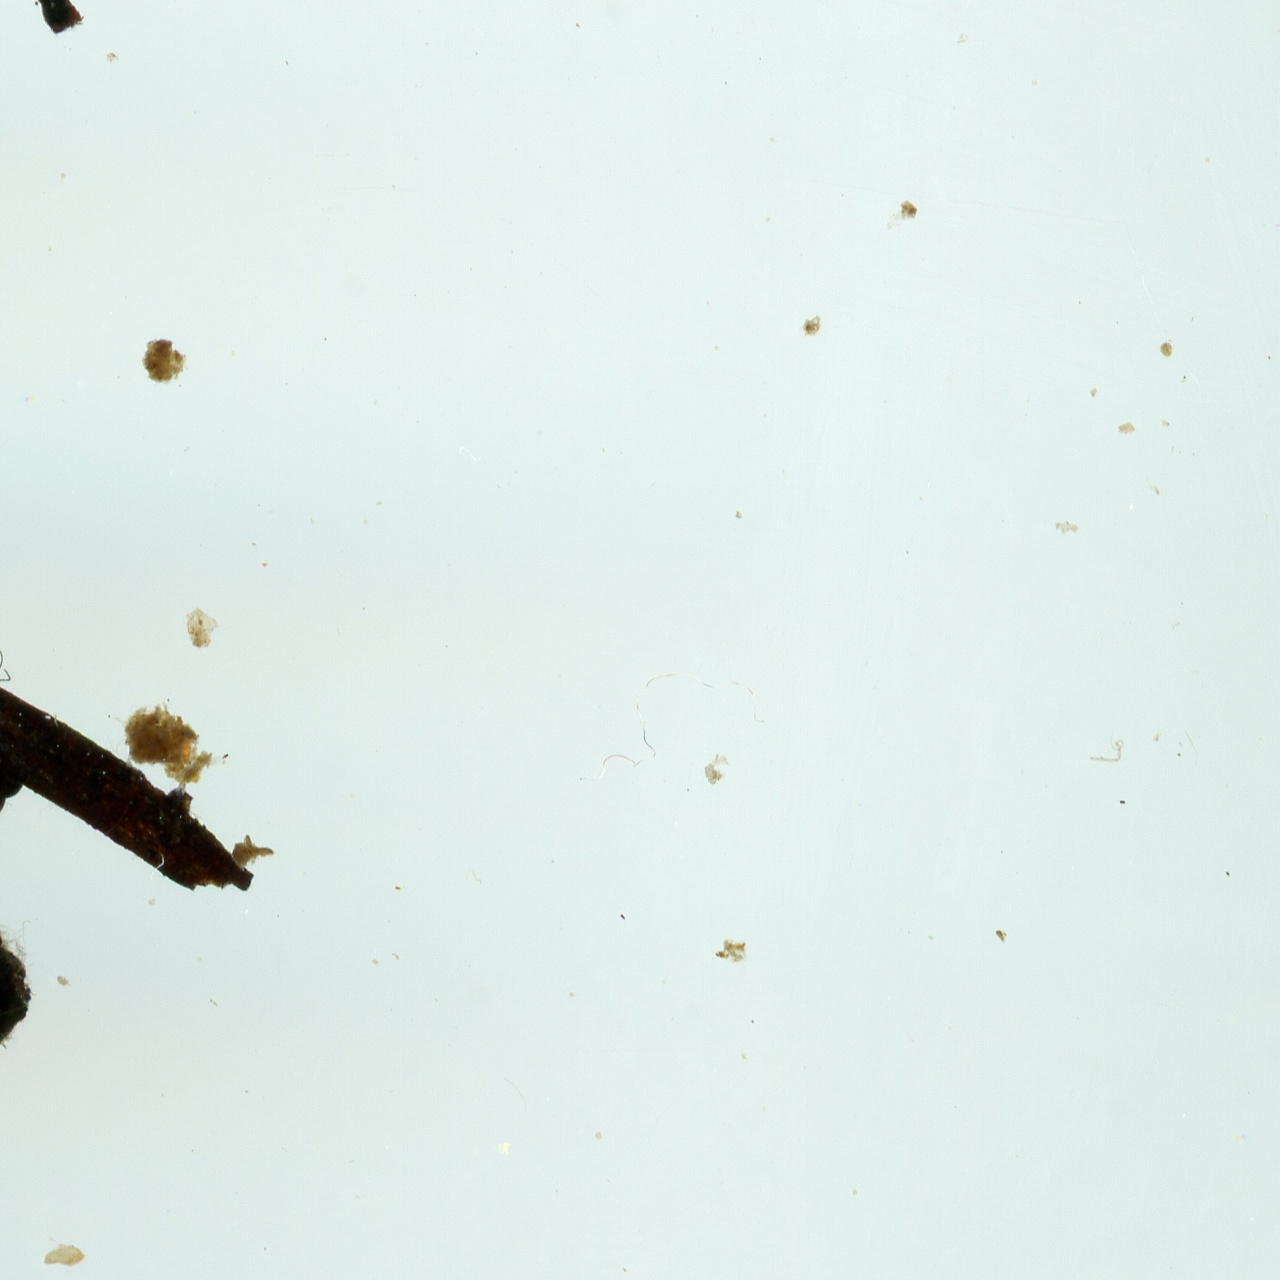arthropod: (0, 596, 12, 763)
